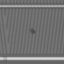dust: (30, 27, 36, 34)
